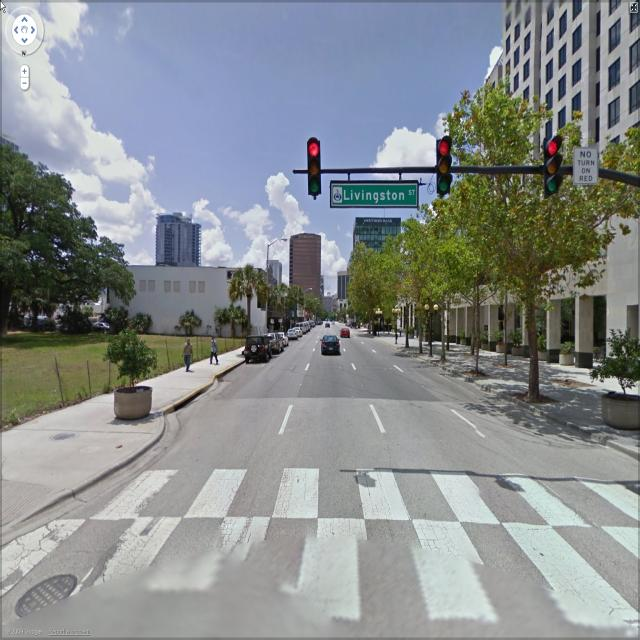b_1: (288, 231, 324, 321), (156, 204, 206, 267), (264, 259, 290, 294)
b_2: (383, 4, 640, 407)
